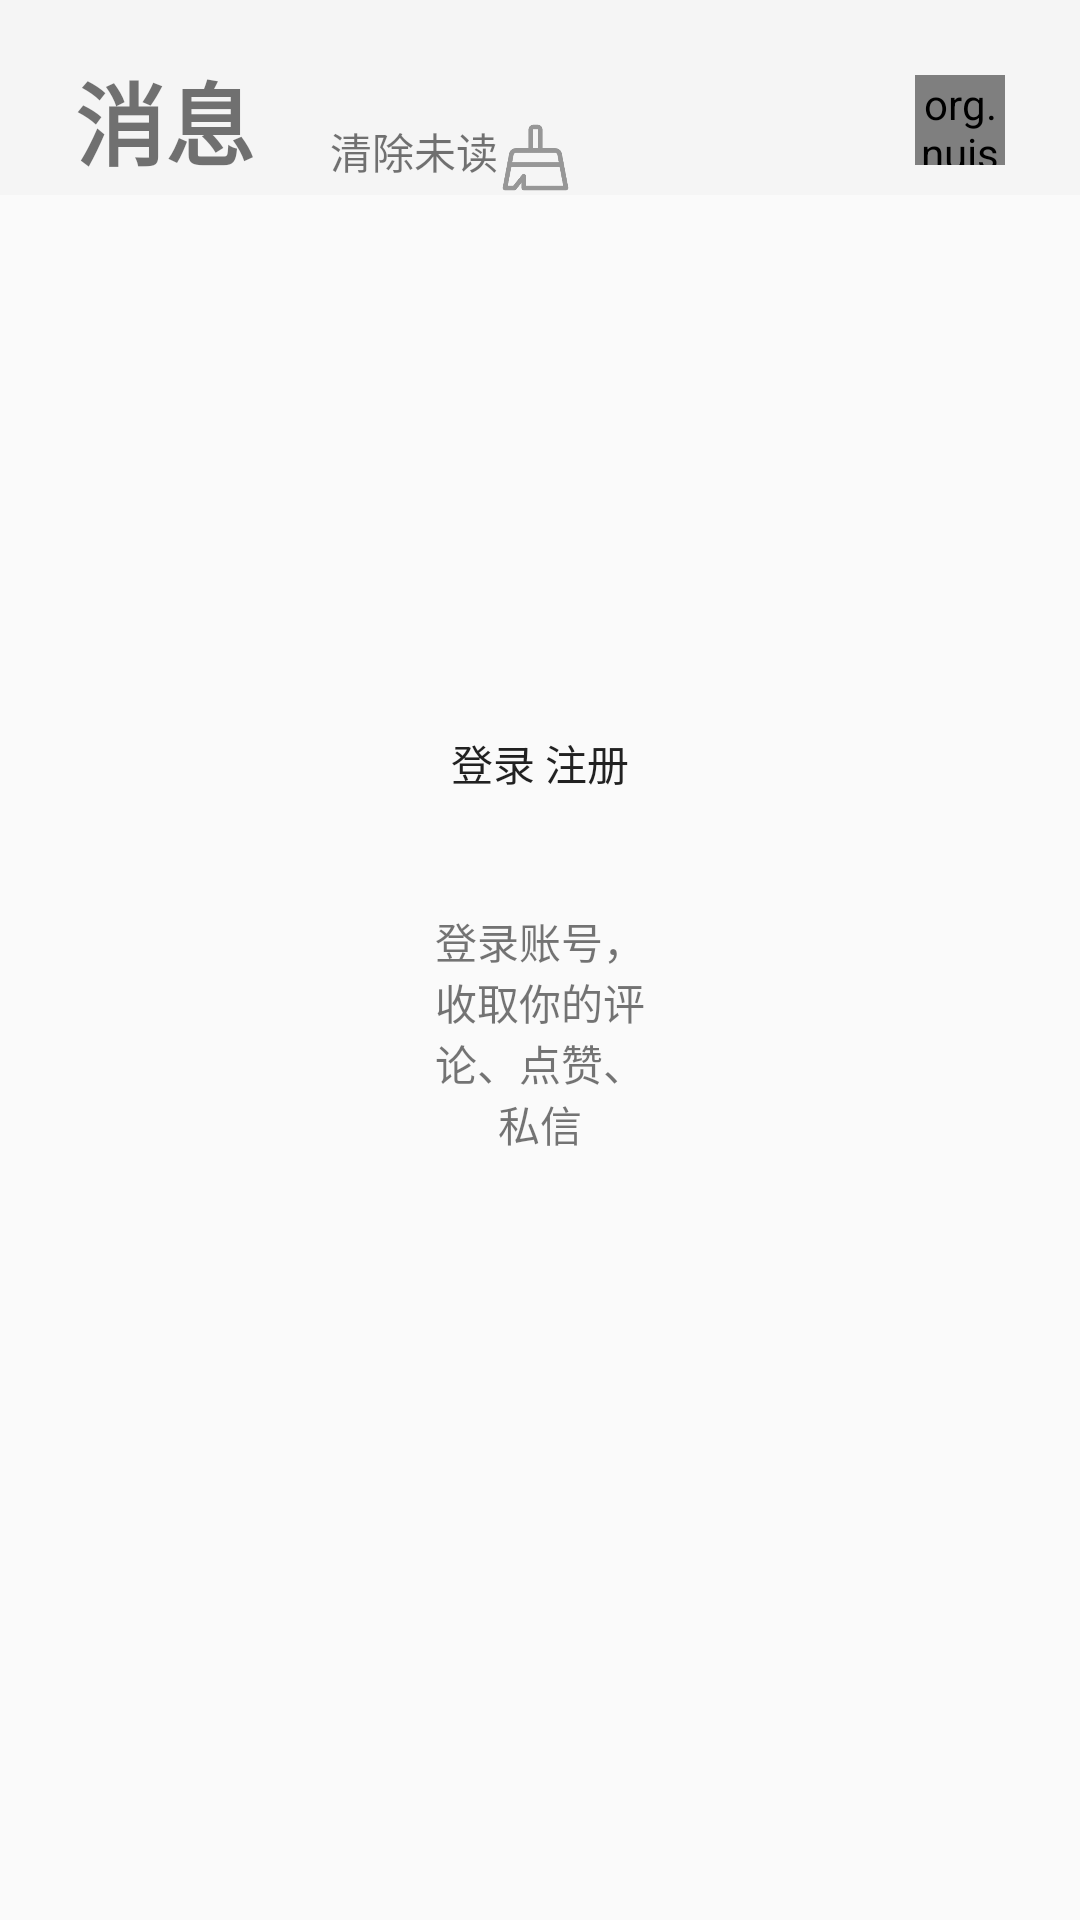

Where icons sit on this 1080×1920 app screen, as detection(x1, y1, x2, y2):
clean: detection(503, 125, 568, 190)
